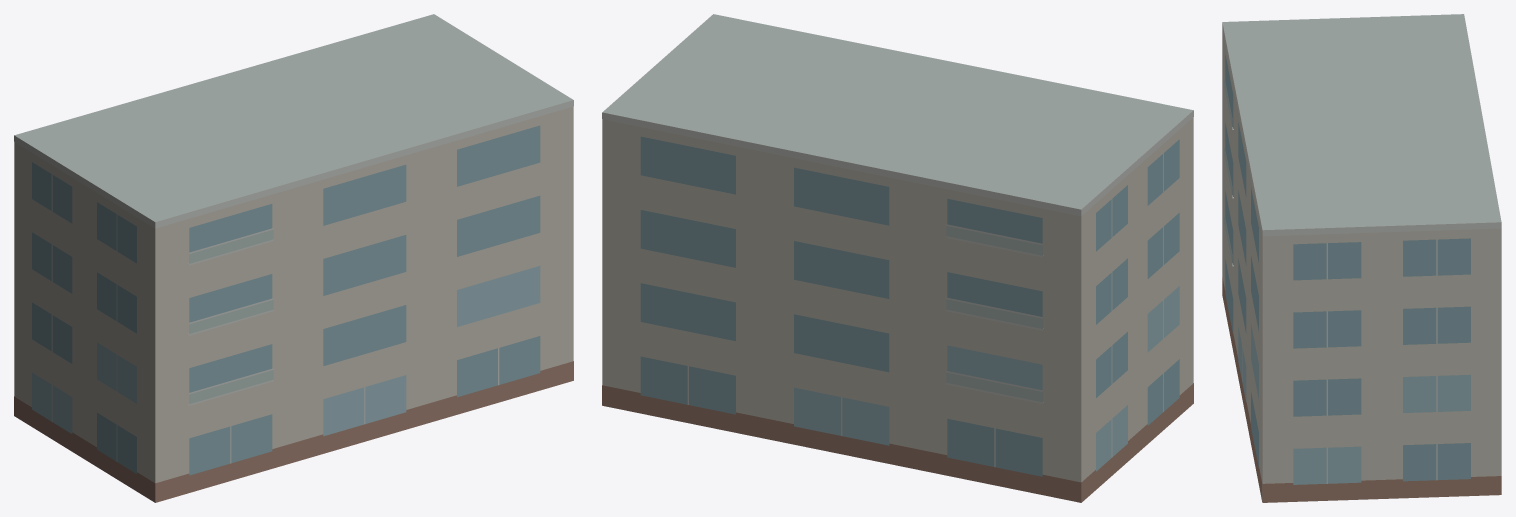
Rendered from survey-upis-32476954.glb.
The picture shows the model from 3 angles, left to right: view 1: azimuth 30°, elevation 25°; view 2: azimuth 150°, elevation 25°; view 3: azimuth 270°, elevation 25°; orthographic projection. The views are drawn at different scales.
Parts seen in each view (by area): view 1: survey-upis-32476954.tmp; view 2: survey-upis-32476954.tmp; view 3: survey-upis-32476954.tmp.
Part boxes in pixels (<box>): survey-upis-32476954.tmp: <box>14,14,573,502</box>; survey-upis-32476954.tmp: <box>602,14,1193,502</box>; survey-upis-32476954.tmp: <box>1222,14,1501,502</box>.
Size of the model in its own units: 18.27 by 10.74 by 9.98.
